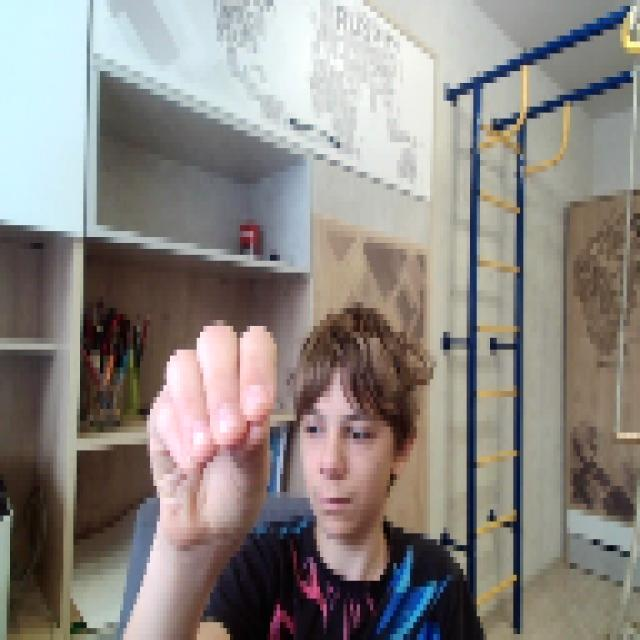left_click: (136, 314, 276, 539)
